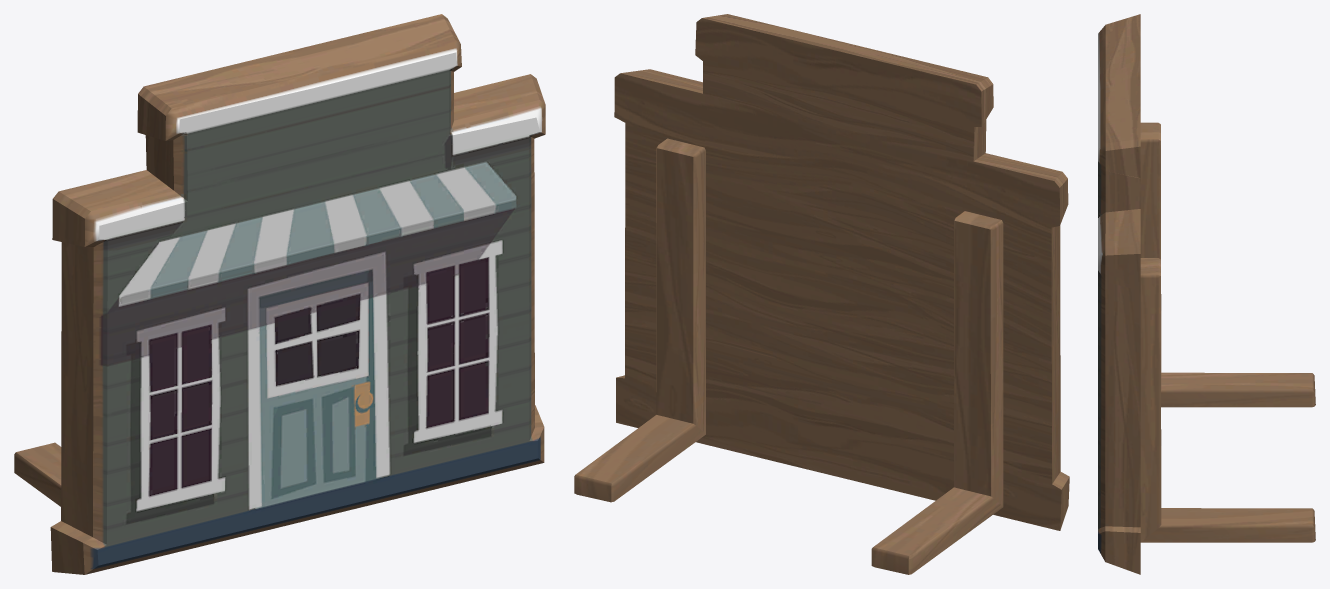
The model's file is small west cutout.glb.
The picture shows the model from 3 angles, left to right: view 1: azimuth 30°, elevation 25°; view 2: azimuth 150°, elevation 25°; view 3: azimuth 270°, elevation 25°; orthographic projection. The views are drawn at different scales.
Visible parts, largest first — view 1: Standee_WesternBuilding_Small; view 2: Standee_WesternBuilding_Small; view 3: Standee_WesternBuilding_Small.
Boxes of the visible parts, box(x1,y1,x2,y2) form: Standee_WesternBuilding_Small: box(14, 14, 545, 574); Standee_WesternBuilding_Small: box(574, 14, 1069, 574); Standee_WesternBuilding_Small: box(1098, 14, 1315, 574).
Bounding box in the file's own units: 2.64 × 2.4 × 1.19.
1 material, 1 textured.
